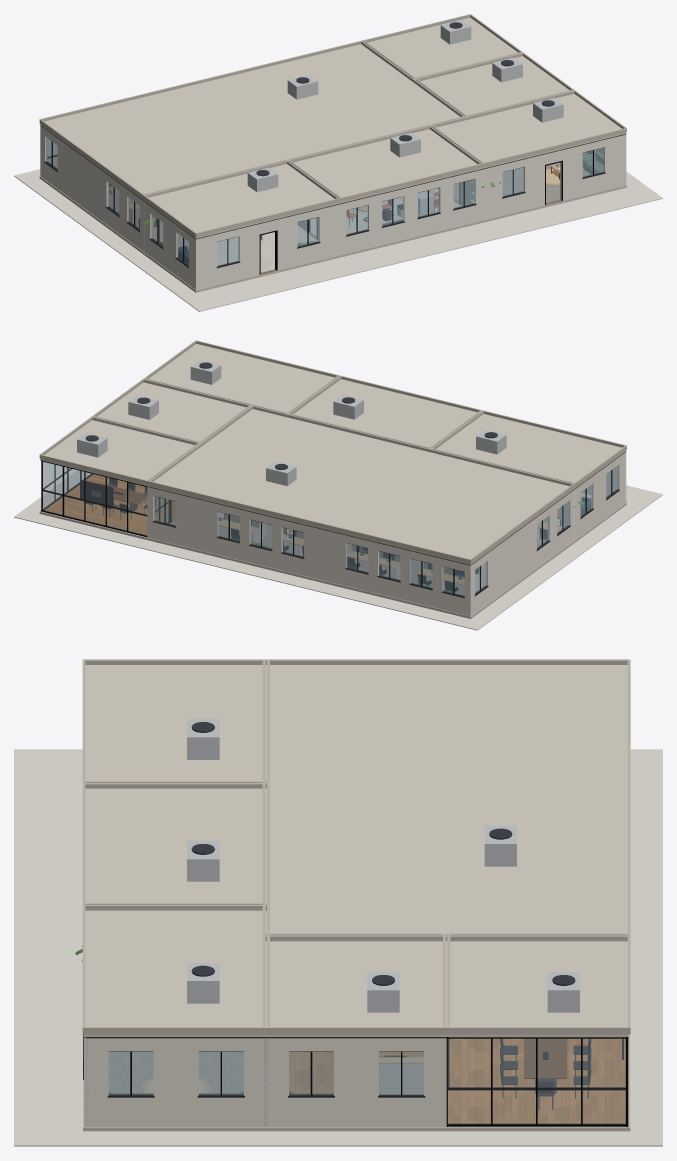
The model's file is central-operacoes.glb.
3 views of the same model, one above another, from view 1: azimuth 30°, elevation 25°; view 2: azimuth 150°, elevation 25°; view 3: azimuth 270°, elevation 25° (orthographic). The views are drawn at different scales.
Visible parts, largest first — view 1: teto_malha, paredes_malha, terreno_malha, janelas_malha, esquadrias_malha, laje_malha, piso_porcelanato_malha, piso_carpete_malha, paredes_topo_malha; view 2: teto_malha, paredes_malha, terreno_malha, janelas_malha, divisorias_vidro_malha, esquadrias_malha, piso_madeira_malha, laje_malha, piso_carpete_malha, tv-parede_malha, paredes_topo_malha, mesa-bancada_malha (+1 smaller); view 3: teto_malha, terreno_malha, paredes_malha, divisorias_vidro_malha, piso_madeira_malha, janelas_malha, esquadrias_malha, piso_carpete_malha, laje_malha, mesa-reuniao-longa_malha, estante_malha, paredes_topo_malha.
Boxes of the visible parts, <box> form: teto_malha: <box>39,14,626,238</box>; paredes_malha: <box>40,125,626,289</box>; terreno_malha: <box>14,169,662,311</box>; janelas_malha: <box>45,137,604,266</box>; esquadrias_malha: <box>44,141,605,274</box>; laje_malha: <box>39,176,626,292</box>; piso_porcelanato_malha: <box>178,188,460,272</box>; piso_carpete_malha: <box>109,162,590,227</box>; paredes_topo_malha: <box>40,125,626,239</box>; teto_malha: <box>39,340,626,564</box>; paredes_malha: <box>147,452,626,616</box>; terreno_malha: <box>14,470,662,630</box>; janelas_malha: <box>154,465,617,596</box>; divisorias_vidro_malha: <box>43,462,168,535</box>; esquadrias_malha: <box>40,460,619,598</box>; piso_madeira_malha: <box>45,474,175,535</box>; laje_malha: <box>39,502,626,618</box>; piso_carpete_malha: <box>169,520,545,595</box>; tv-parede_malha: <box>80,479,113,506</box>; paredes_topo_malha: <box>147,451,625,565</box>; mesa-bancada_malha: <box>219,514,265,542</box>; teto_malha: <box>82,659,630,1037</box>; terreno_malha: <box>14,749,662,1146</box>; paredes_malha: <box>84,1038,446,1126</box>; divisorias_vidro_malha: <box>448,1039,625,1123</box>; piso_madeira_malha: <box>289,1038,625,1123</box>; janelas_malha: <box>108,1051,423,1094</box>; esquadrias_malha: <box>83,1034,628,1126</box>; piso_carpete_malha: <box>109,1052,243,1093</box>; laje_malha: <box>83,1034,630,1131</box>; mesa-reuniao-longa_malha: <box>524,1038,567,1093</box>; estante_malha: <box>379,1057,423,1094</box>; paredes_topo_malha: <box>83,1034,446,1038</box>.
Bounding box in the file's own units: 26 × 3.81 × 18.
Materials: 24 (5 with a texture image).
